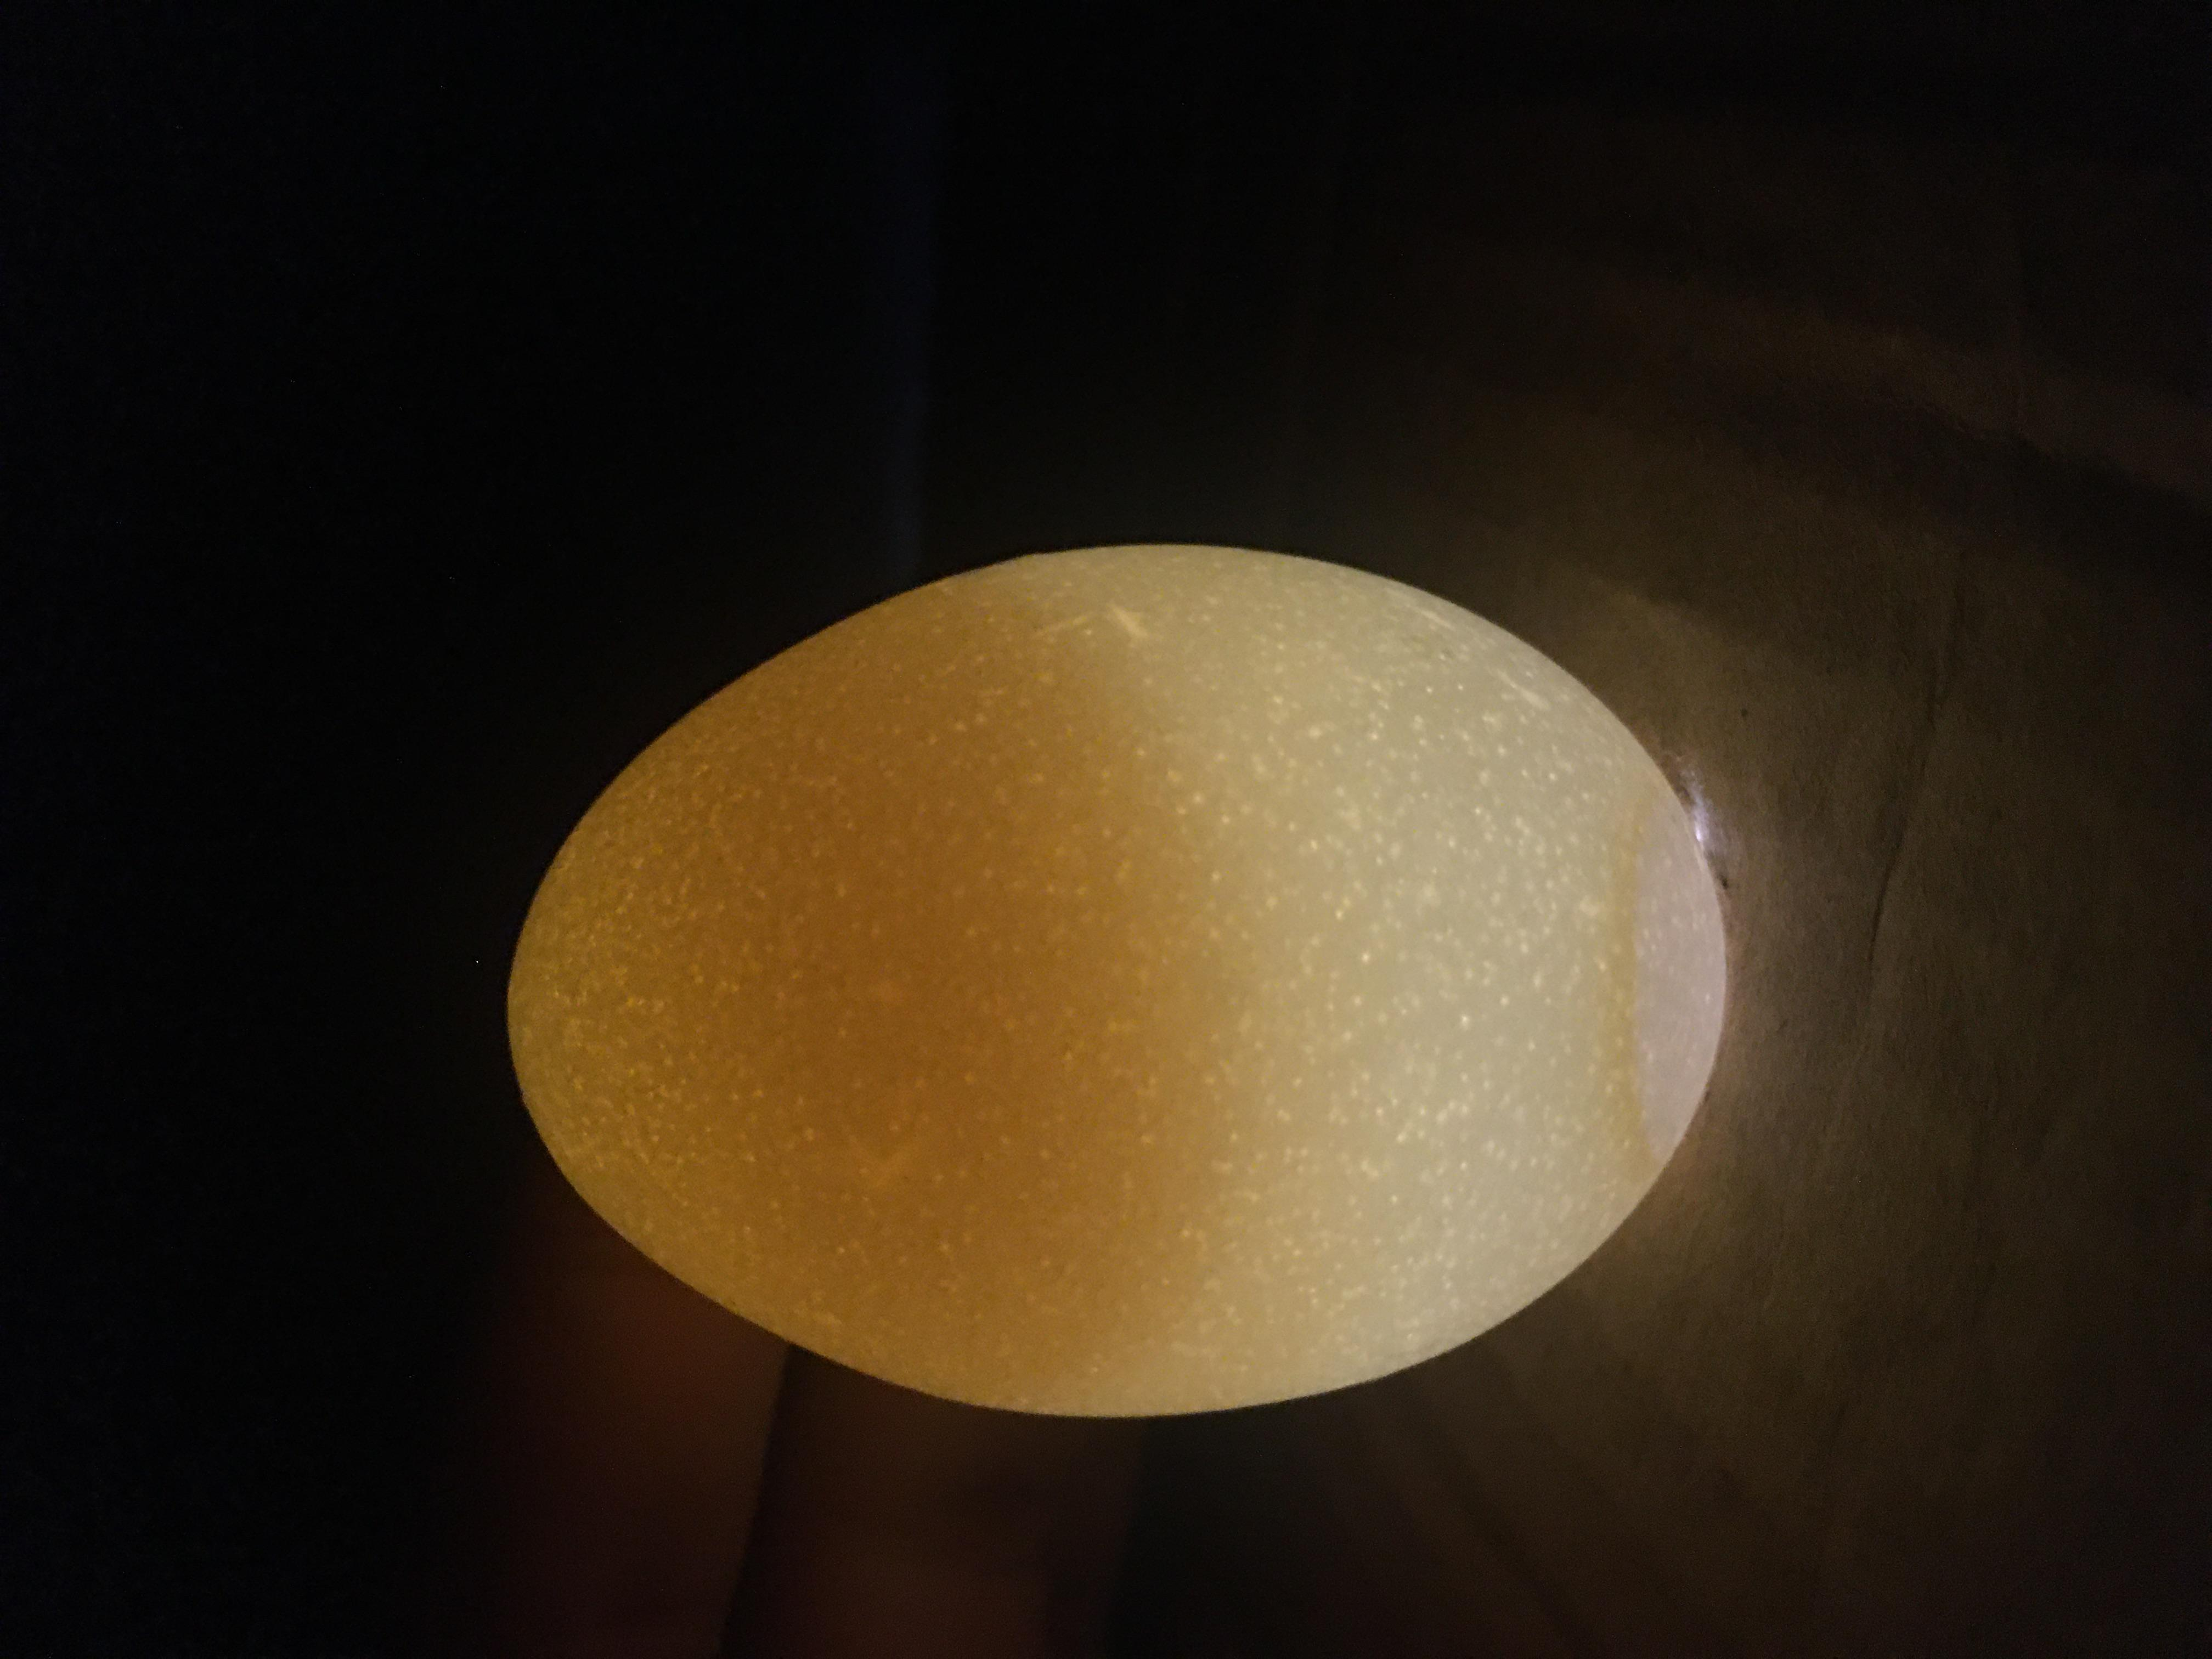A - Good: (292, 360, 1518, 1329)
